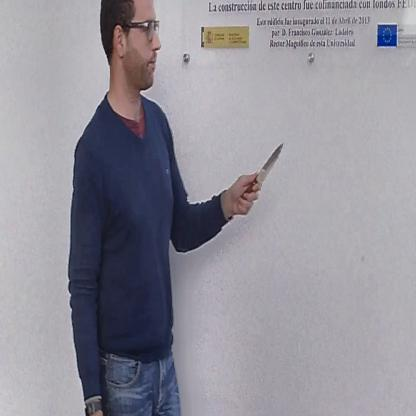knife: (239, 135, 288, 210)
